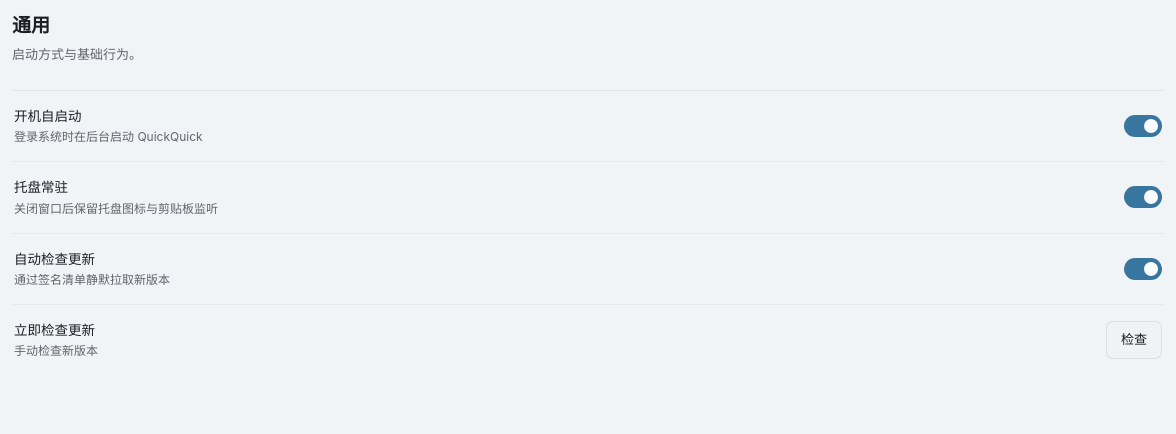
Test: GeneralPanel 立即检查更新按钮 › available=false 时显示「已是最新版本」文案
This screenshot has width=1176, height=434.
Click the button "检查" at (1134, 340), box [1106,321,1162,359]
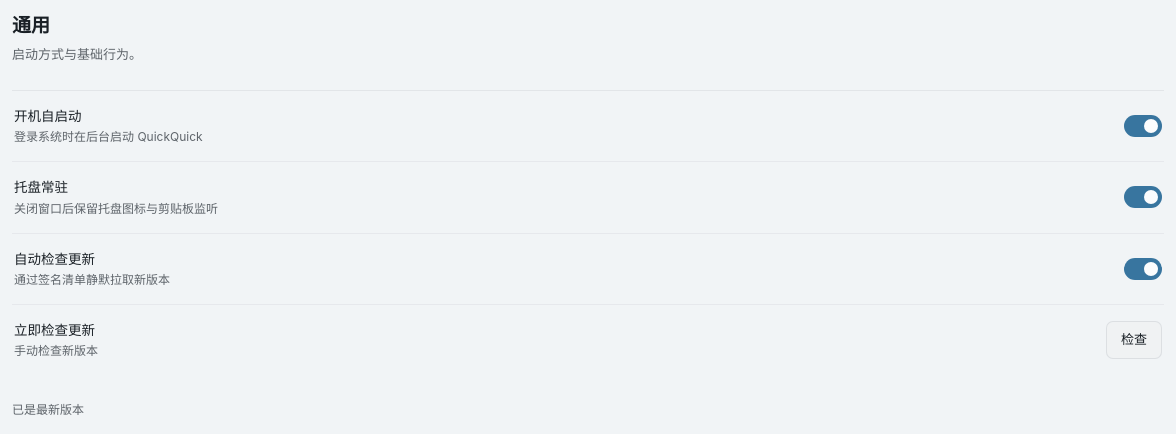
Now the text "已是最新版本" is shown, box [12,402,84,417]
